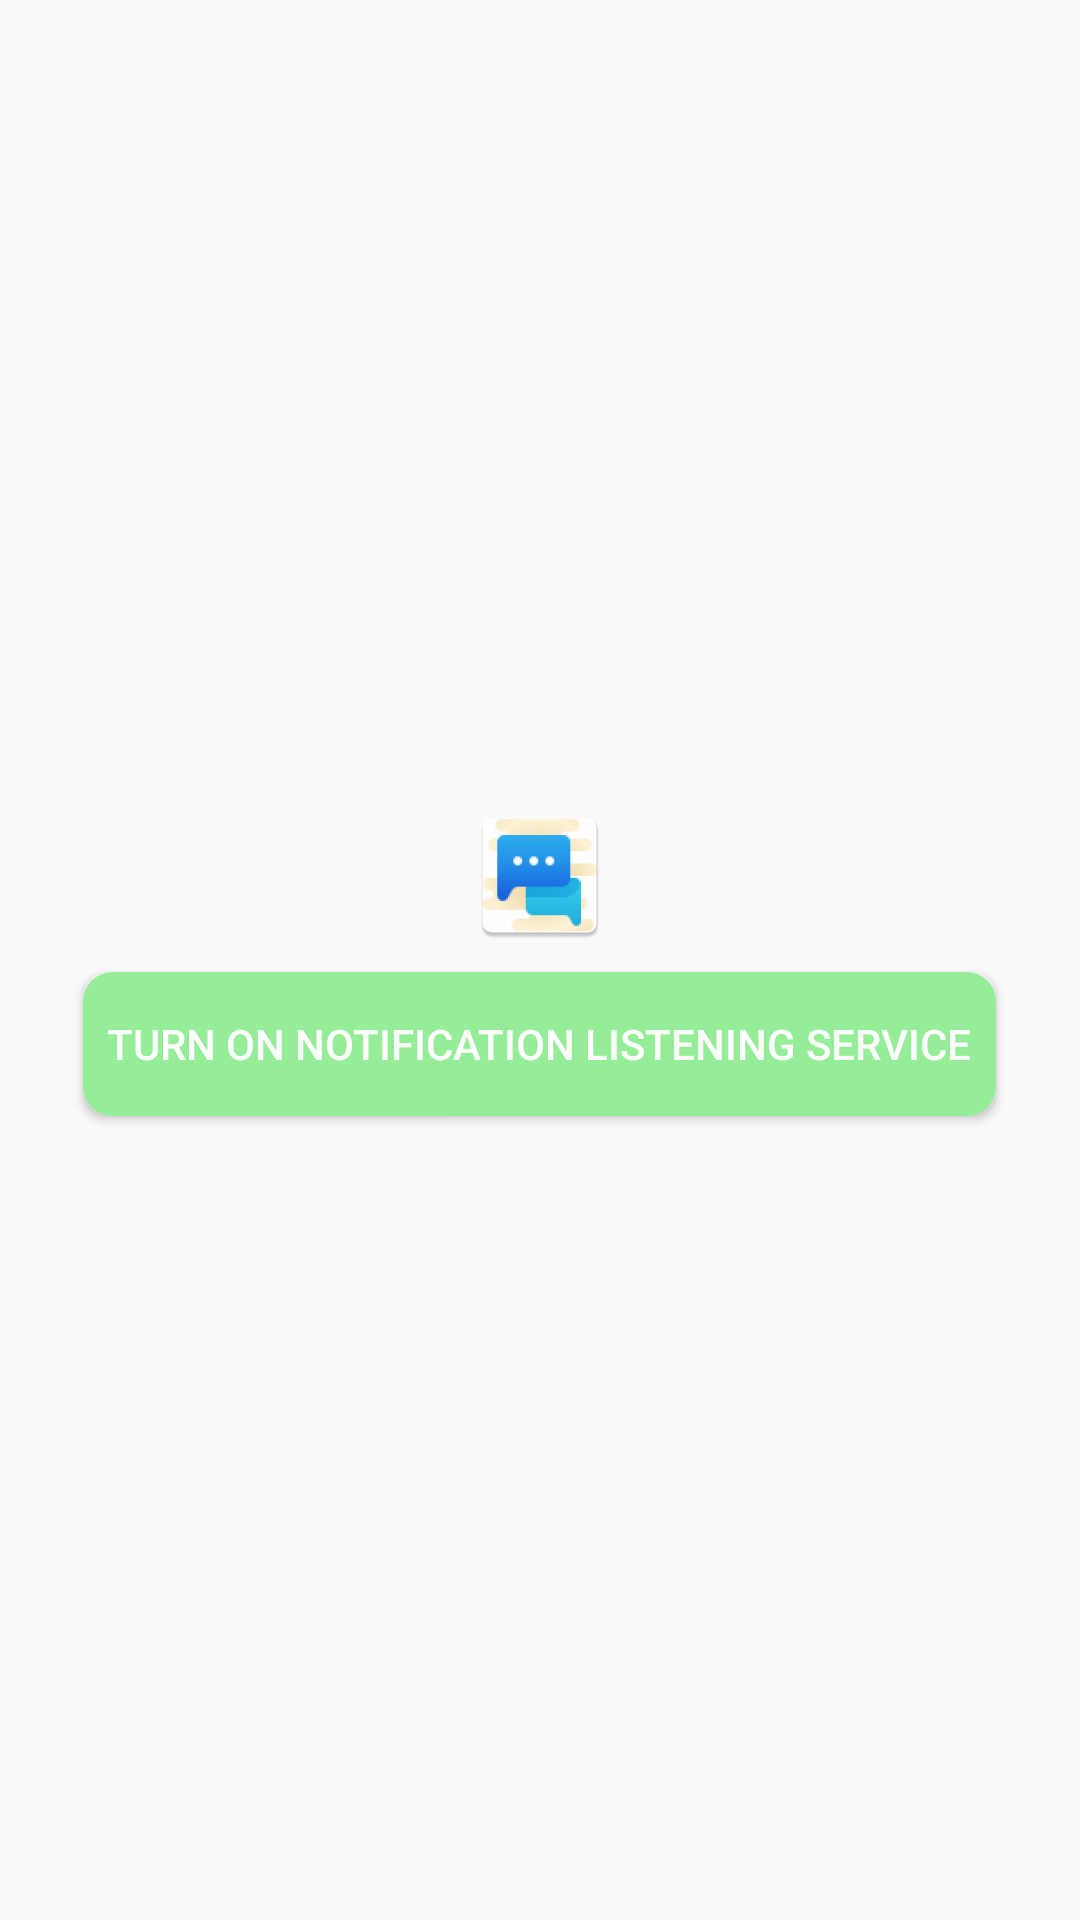

Icon click points for this 1080x1920 phone screenshot, format (x=x, y=y):
chat: (x=540, y=878)
